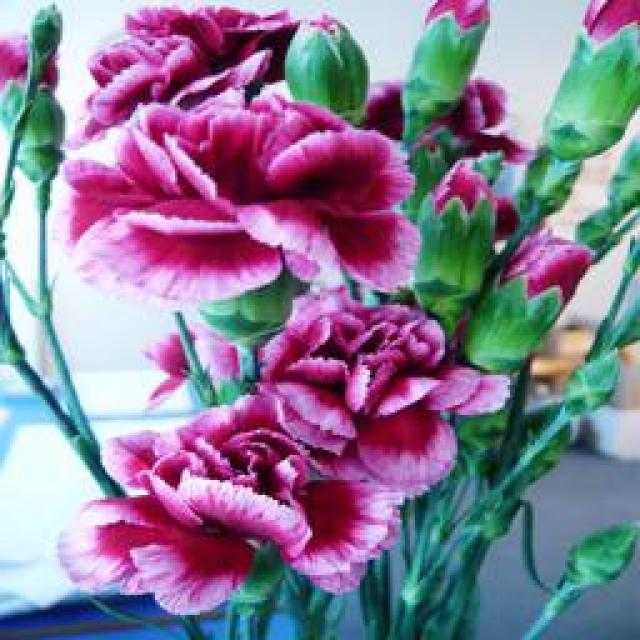carnation: (94, 396, 370, 634)
